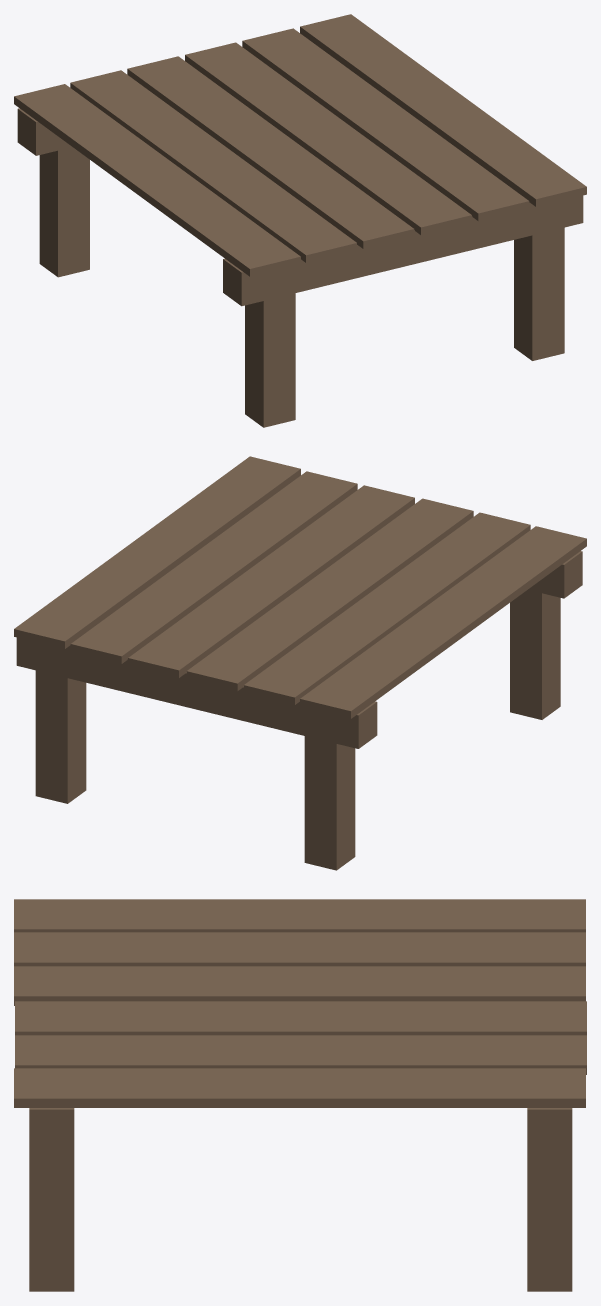
File: Table_1.glb
3 views of the same model, one above another, from view 1: azimuth 30°, elevation 25°; view 2: azimuth 150°, elevation 25°; view 3: azimuth 270°, elevation 25° (orthographic). The views are drawn at different scales.
Visible parts, largest first — view 1: Table 1; view 2: Table 1; view 3: Table 1.
Part boxes in pixels (x1,y1,x2,y2): Table 1: (14,14,586,427); Table 1: (14,456,586,870); Table 1: (14,899,586,1291).
Bounding box in the file's own units: 1.31 × 0.6166 × 1.57.
